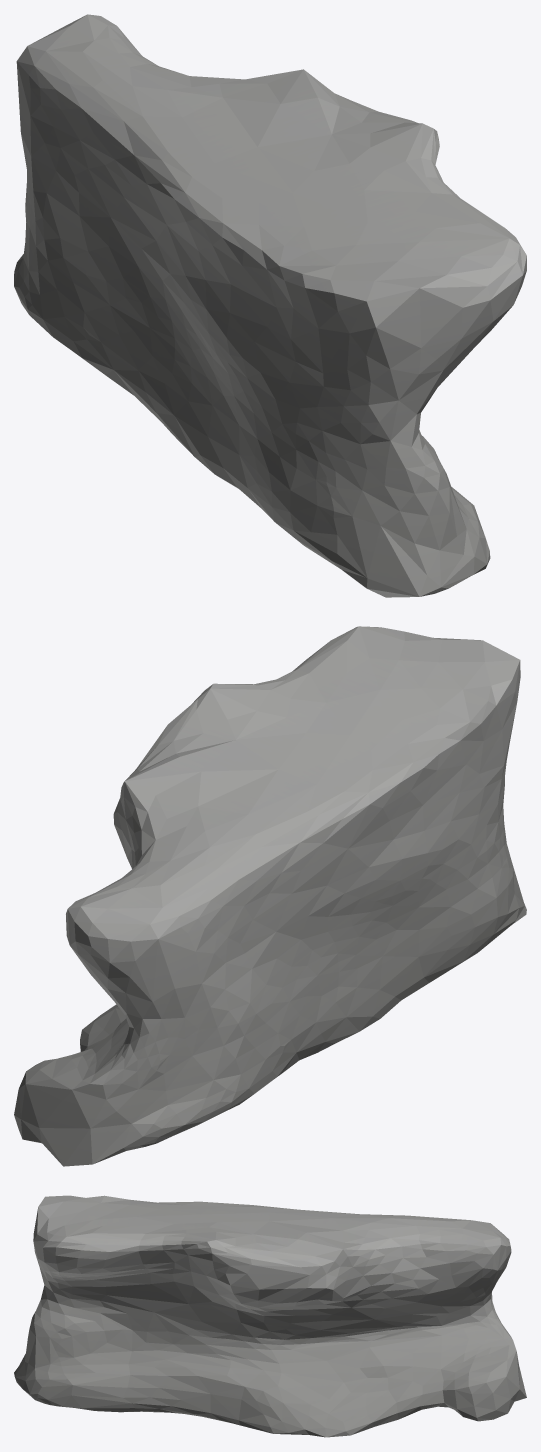
Rendered from Cavern_Wall_Lrg-01.fbx.
3 views of the same model, one above another, from view 1: azimuth 30°, elevation 25°; view 2: azimuth 150°, elevation 25°; view 3: azimuth 270°, elevation 25° (orthographic). The views are drawn at different scales.
Parts seen in each view (by area): view 1: Cavern_Wall_Lrg-01; view 2: Cavern_Wall_Lrg-01; view 3: Cavern_Wall_Lrg-01.
Part boxes in pixels (box(x1,y1,x2,y2)): Cavern_Wall_Lrg-01: box(14, 14, 526, 597); Cavern_Wall_Lrg-01: box(14, 626, 526, 1166); Cavern_Wall_Lrg-01: box(14, 1195, 526, 1437).
Size of the model in its own units: 1187 by 1387 by 3351.
Materials: 1 (1 with a texture image).
